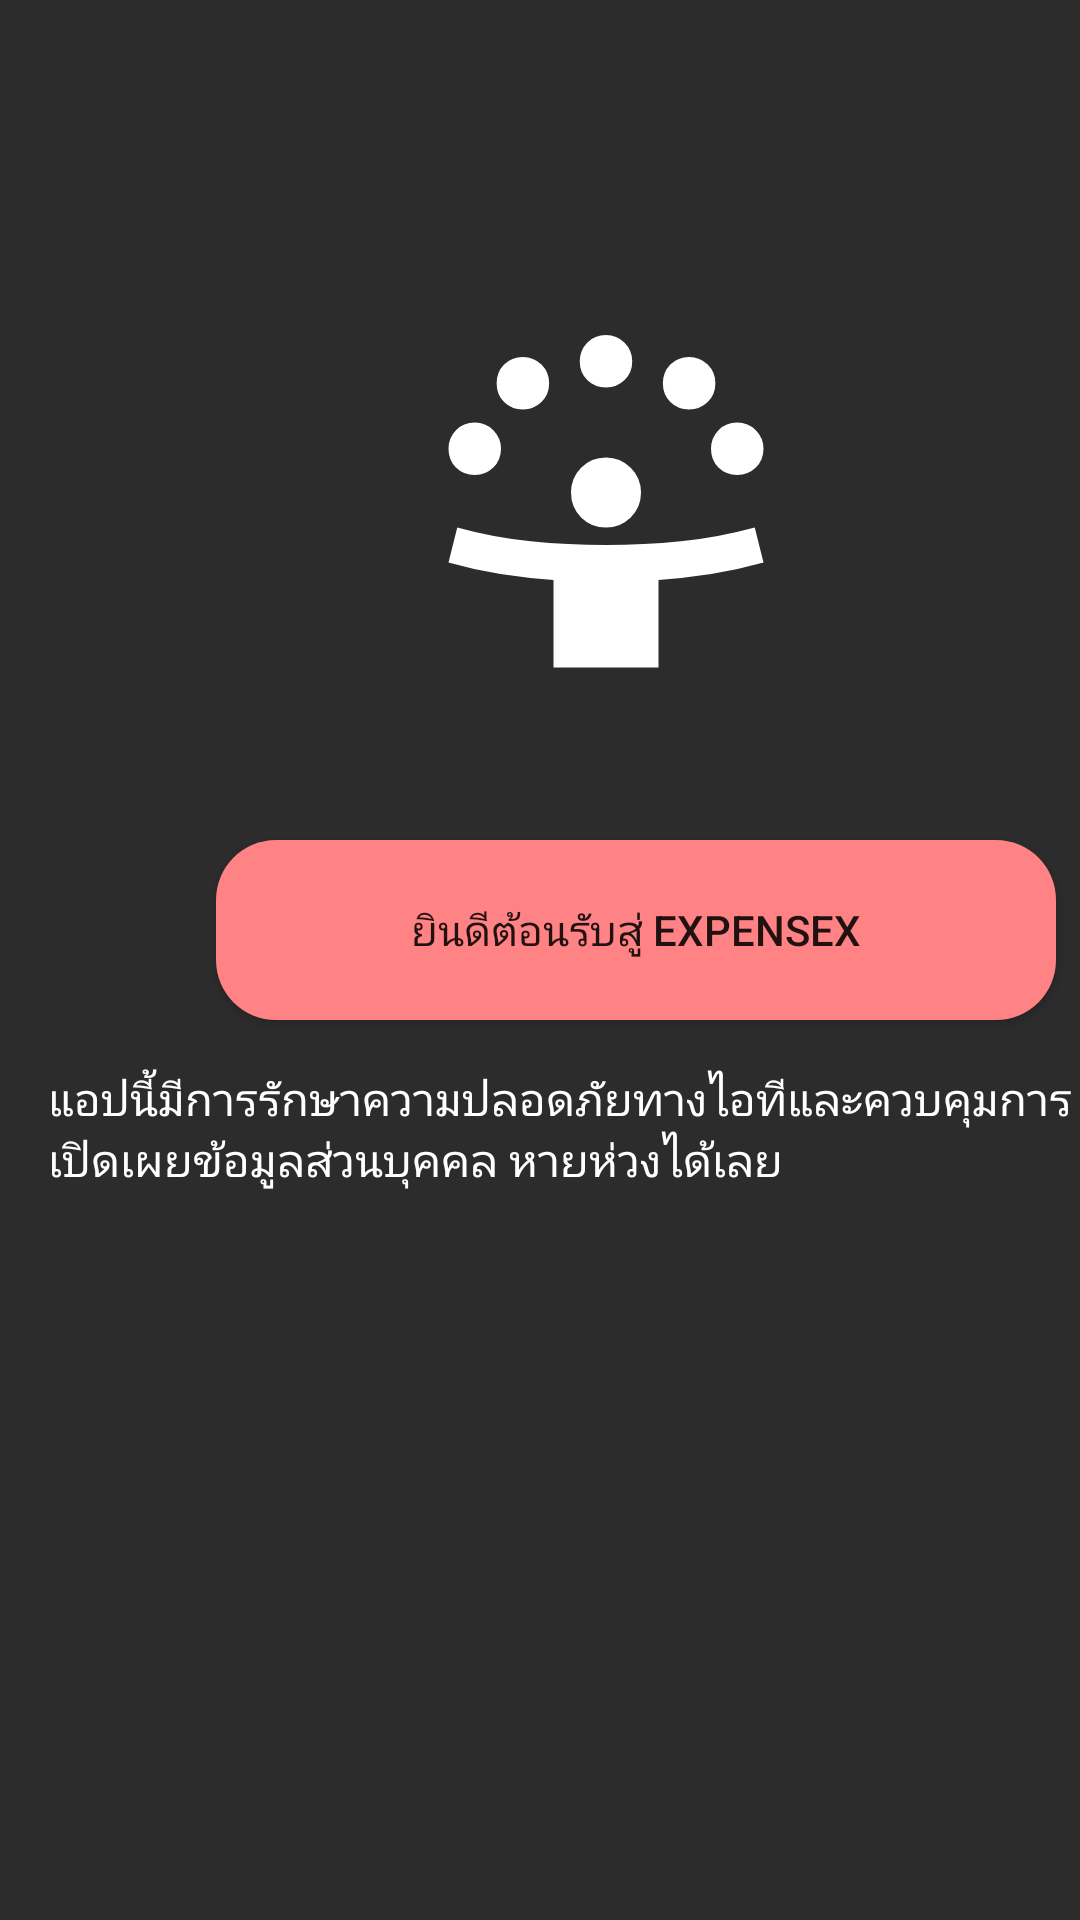

Icons on this 1080*1920 Android screen, each with the point to tap as (x=x, y=y):
Celebrate: (x=606, y=501)
